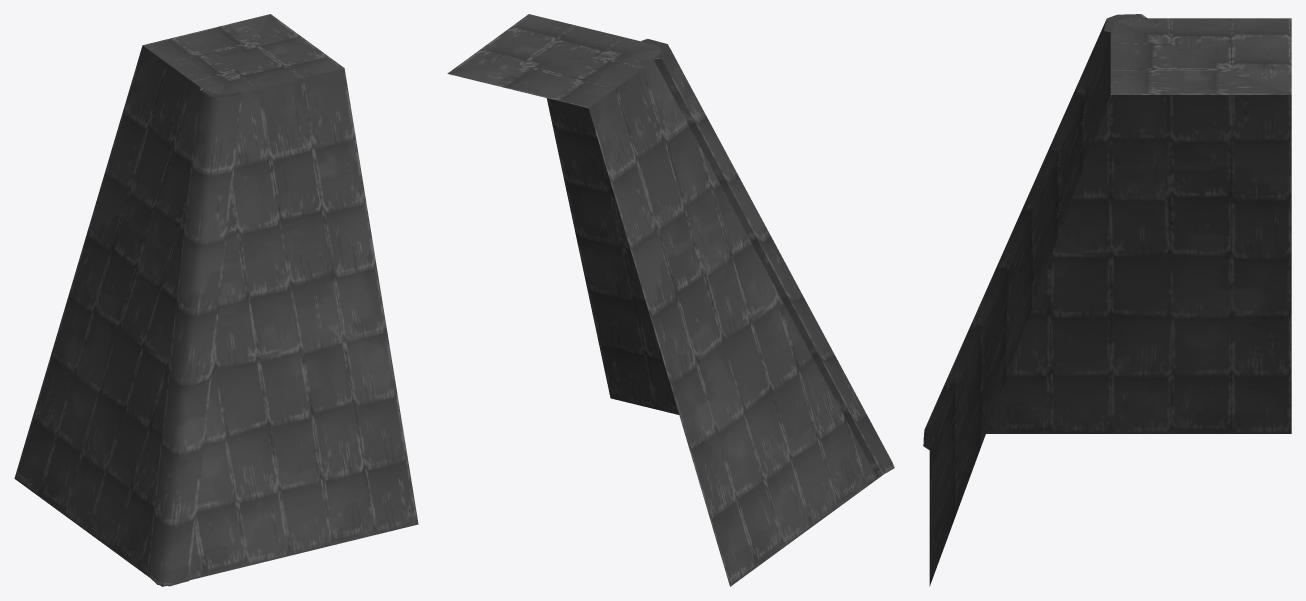
Rendered from roof_slate_corner.glb.
The picture shows the model from 3 angles, left to right: view 1: azimuth 30°, elevation 25°; view 2: azimuth 150°, elevation 25°; view 3: azimuth 270°, elevation 25°; orthographic projection. The views are drawn at different scales.
Parts seen in each view (by area): view 1: Roof_Slate_Corner; view 2: Roof_Slate_Corner; view 3: Roof_Slate_Corner.
Boxes of the visible parts, left/top/right/bottom form: Roof_Slate_Corner: left=14, top=14, right=418, bottom=586; Roof_Slate_Corner: left=447, top=14, right=894, bottom=586; Roof_Slate_Corner: left=923, top=14, right=1291, bottom=586.
Size of the model in its own units: 2.02 by 3.03 by 2.03.
1 material, 1 textured.
